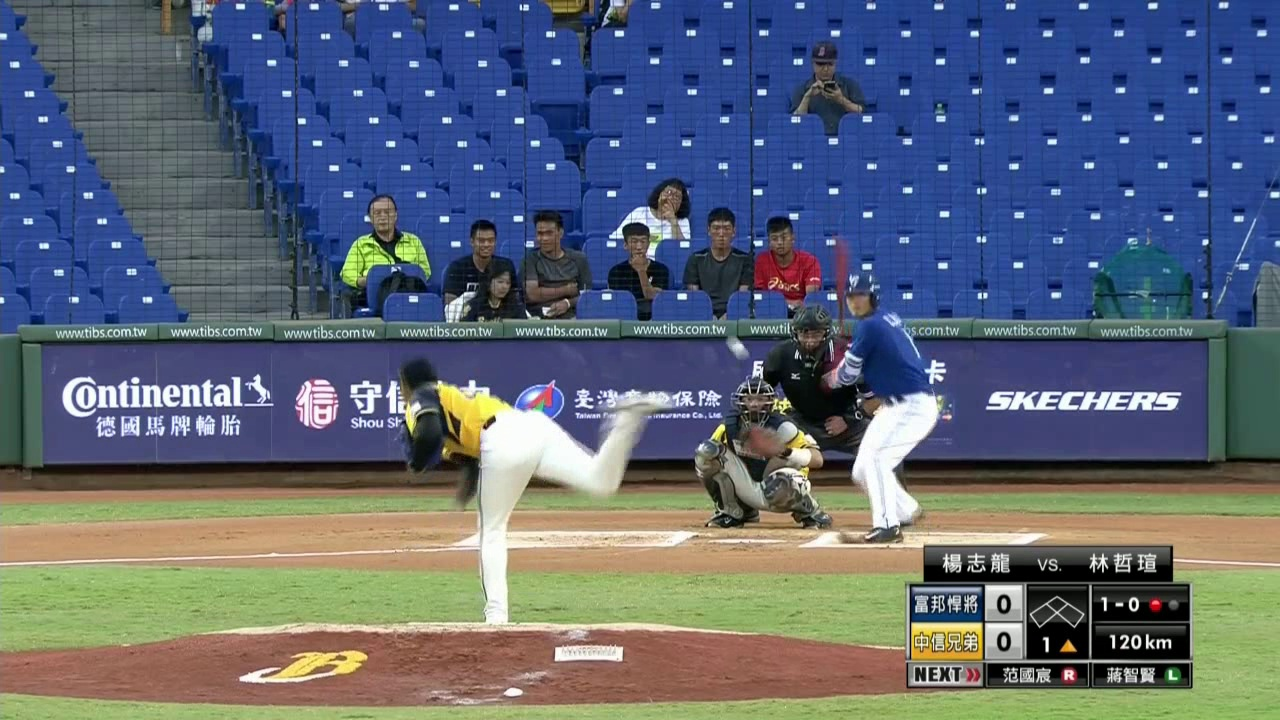ball: (724, 336, 752, 361)
base: (1027, 592, 1089, 629)
bat: (827, 234, 852, 341)
out: (1146, 594, 1181, 613)
score1: (984, 585, 1024, 622)
score2: (985, 623, 1022, 659)
session: (1038, 631, 1080, 656)
speed: (1104, 629, 1176, 654)
strikeball: (1098, 594, 1141, 613)
